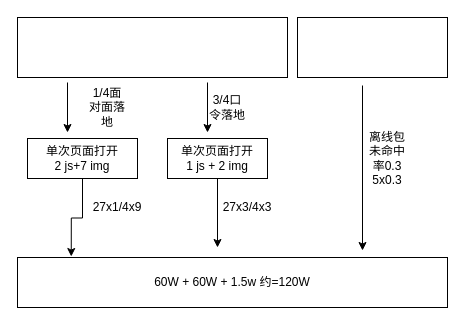
The diagram is 465 pixels wide and 325 high, and some of its shapes have lost their labels. The shapes that lost their labels are listed below. From the top down, each one's centre as x and y in pixels, then its label:
At (x=152, y=47): "端外落地页(27W QPS)".
At (x=372, y=47): "端内面对面扫码（5W QPS）".
